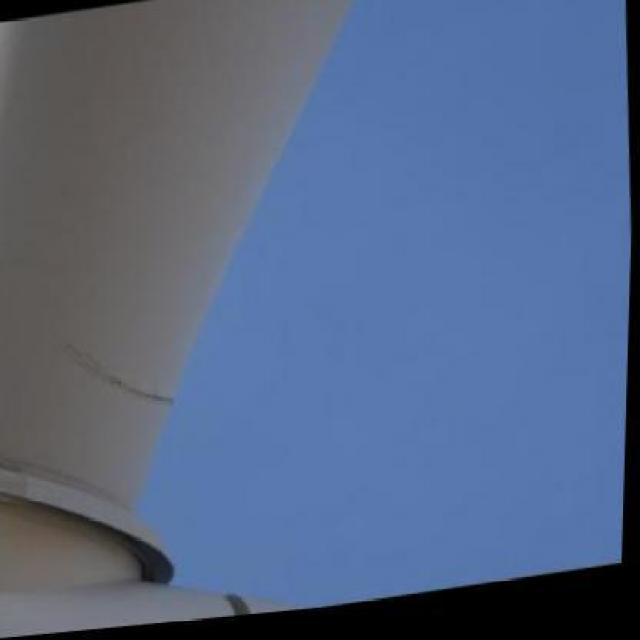Crack: (59, 327, 181, 422)
